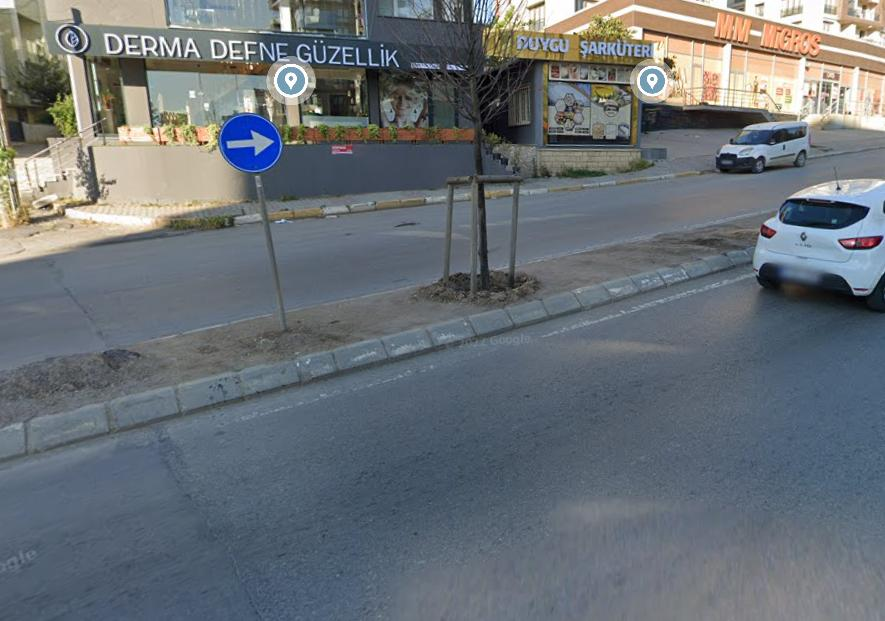turnright: (217, 117, 285, 175)
